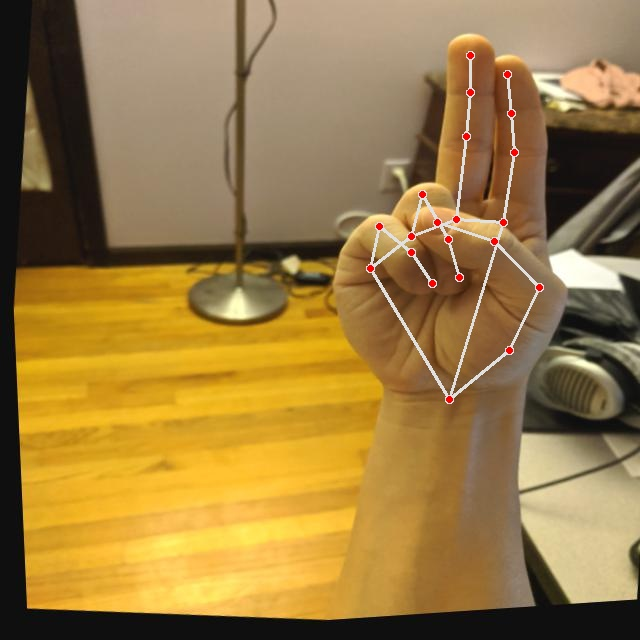U: (302, 14, 604, 425)
